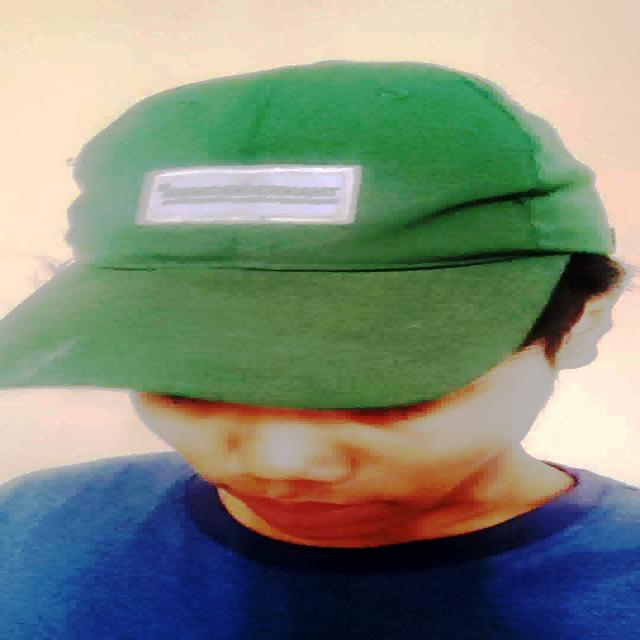TOPI: (2, 55, 577, 401)
